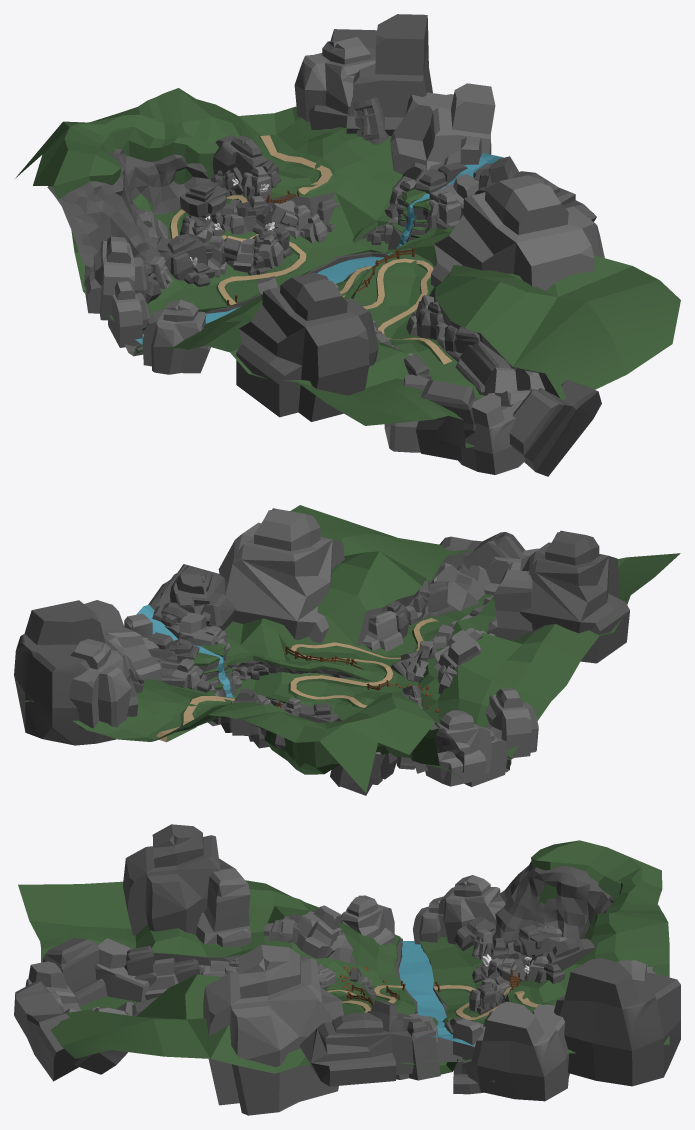
Rendered from TerrainMesh.fbx.
The picture shows the model from 3 angles, top to bottom: view 1: azimuth 30°, elevation 25°; view 2: azimuth 150°, elevation 25°; view 3: azimuth 270°, elevation 25°; orthographic projection. The views are drawn at different scales.
Visible parts, largest first — view 1: TerrainFULLMesh, River, Waterfall; view 2: TerrainFULLMesh, Waterfall; view 3: TerrainFULLMesh, River.
Part boxes in pixels (box(x1,y1,x2,y2)): TerrainFULLMesh: box(15, 14, 680, 476); River: box(135, 256, 384, 344); Waterfall: box(384, 153, 503, 256); TerrainFULLMesh: box(14, 505, 680, 795); Waterfall: box(136, 605, 234, 697); TerrainFULLMesh: box(14, 824, 680, 1115); River: box(399, 941, 446, 1021).
Size of the model in its own units: 104 by 44.56 by 150.
